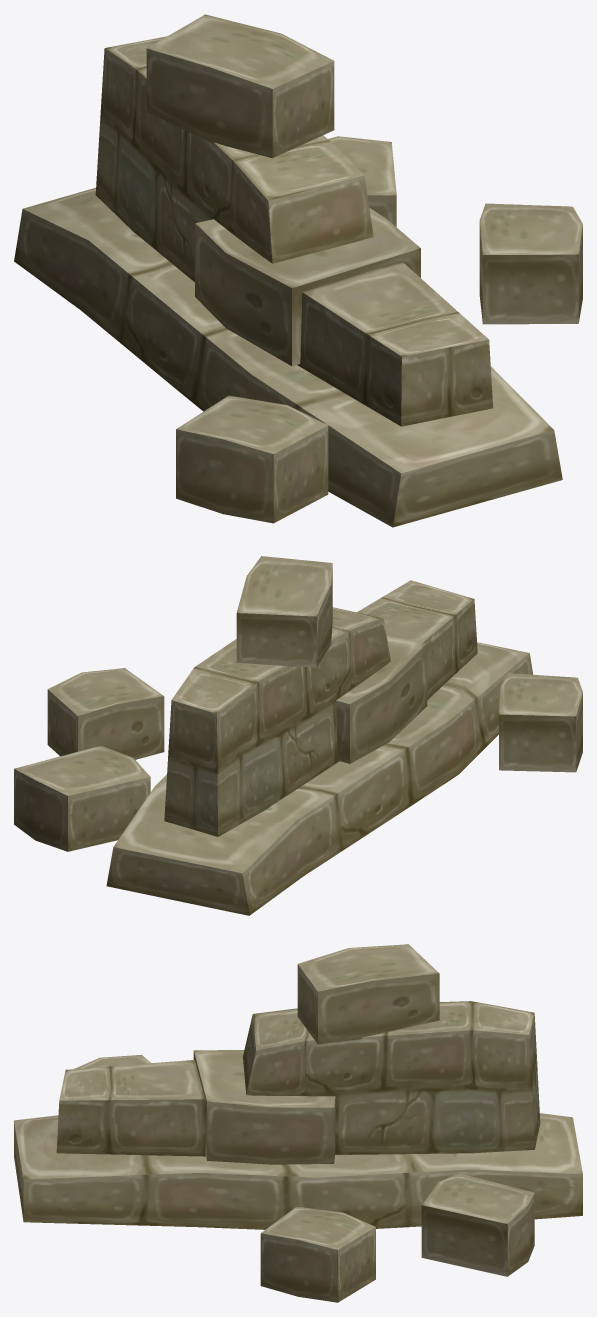
Rendered from wallStoneC.fbx.
3 renders of one model, top to bottom at view 1: azimuth 30°, elevation 25°; view 2: azimuth 150°, elevation 25°; view 3: azimuth 270°, elevation 25°, orthographic. The views are drawn at different scales.
Parts seen in each view (by area): view 1: wall_stoneC; view 2: wall_stoneC; view 3: wall_stoneC.
Boxes of the visible parts, bbox=[...] form: wall_stoneC: bbox=[14, 14, 582, 527]; wall_stoneC: bbox=[14, 556, 582, 915]; wall_stoneC: bbox=[14, 944, 582, 1302].
Size of the model in its own units: 337 by 179 by 415.
